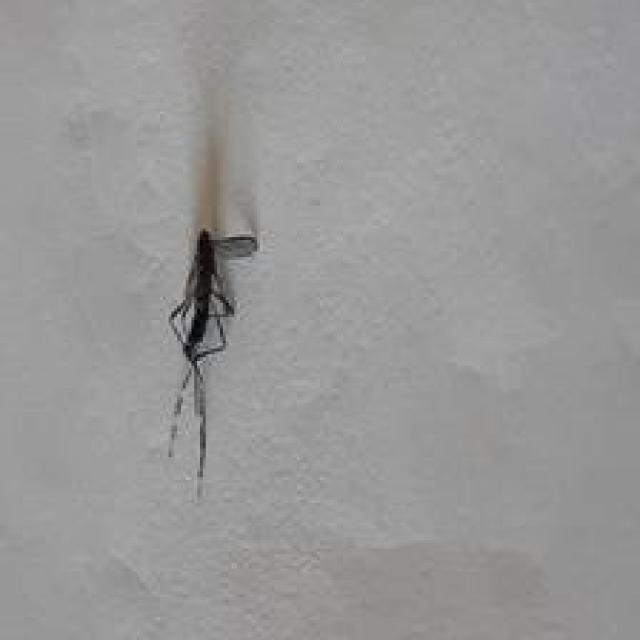Aedes albopictus: (163, 57, 260, 500)
